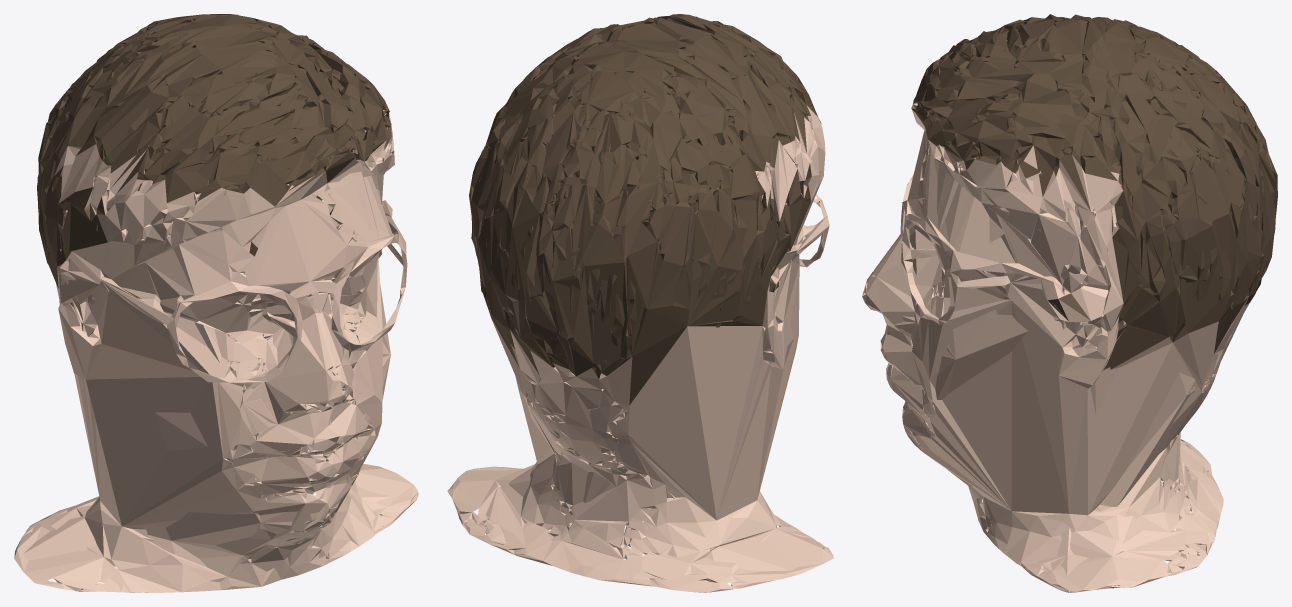
Rendered from MeHead.glb.
3 views of the same model, side by side, from view 1: azimuth 30°, elevation 25°; view 2: azimuth 150°, elevation 25°; view 3: azimuth 270°, elevation 25° (orthographic). The views are drawn at different scales.
Parts seen in each view (by area): view 1: head; view 2: head; view 3: head.
Part boxes in pixels (x1,y1,x2,y2): head: (14, 14, 418, 592); head: (447, 14, 833, 592); head: (862, 14, 1277, 592).
Bounding box in the file's own units: 1.53 × 1.95 × 1.53.
